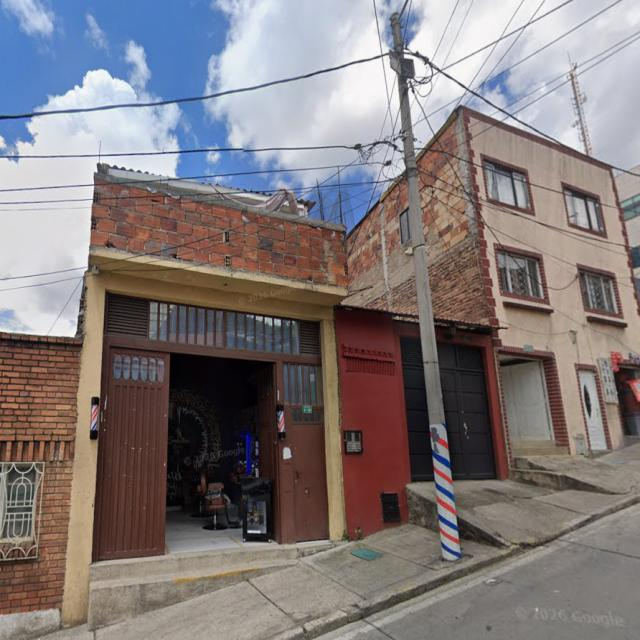fachada: (0, 165, 348, 637), (418, 108, 639, 479), (616, 166, 639, 290)
poste: (391, 13, 461, 560)
